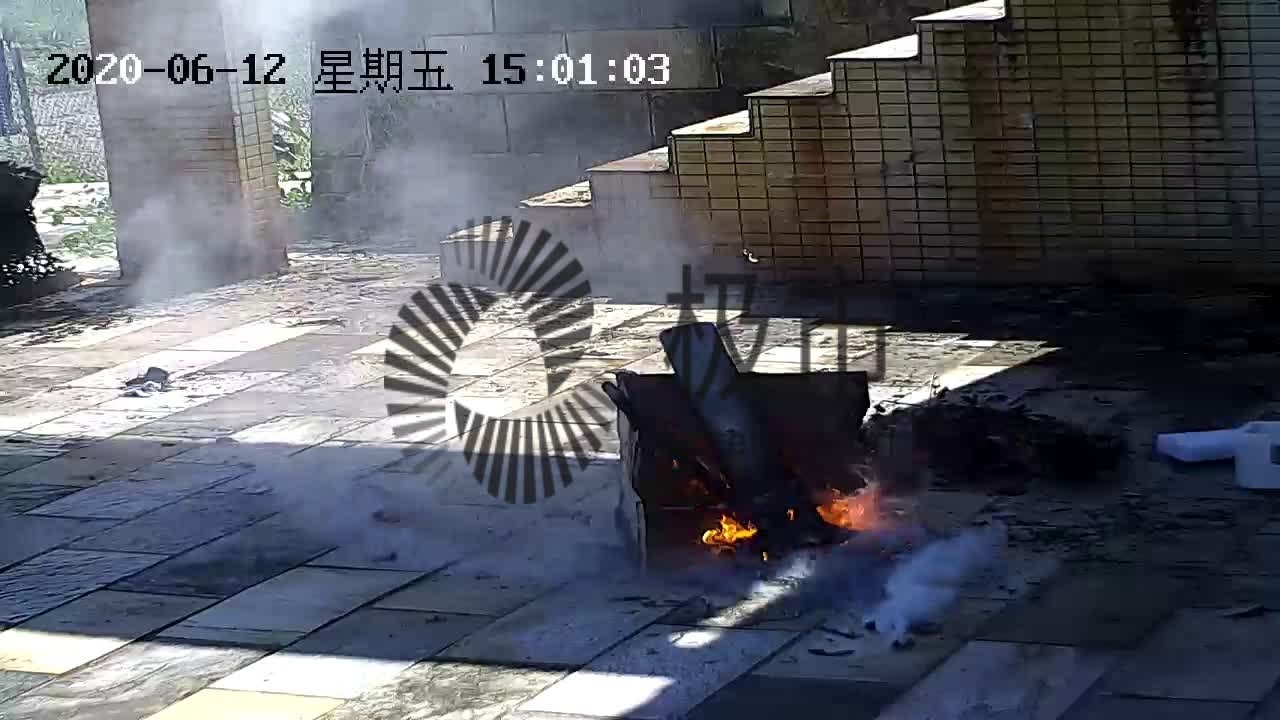fire: (802, 468, 889, 534), (692, 500, 767, 558)
